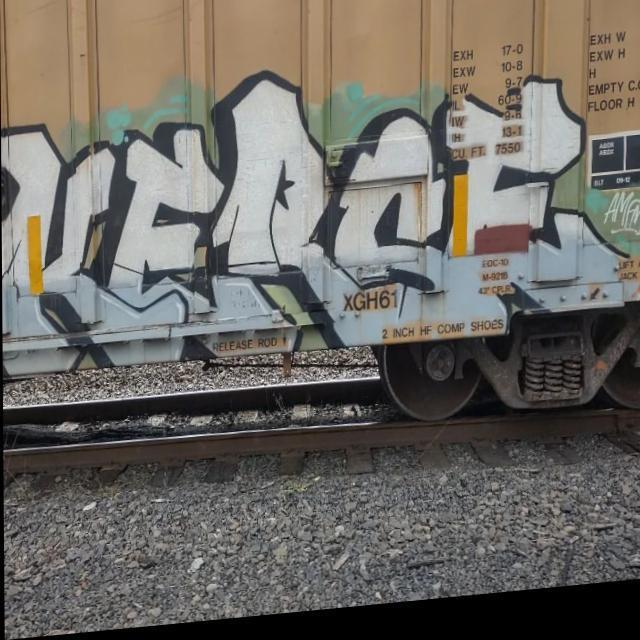-: (1, 49, 640, 377), (438, 28, 530, 178), (581, 31, 640, 136), (383, 328, 507, 352), (342, 294, 400, 325)
